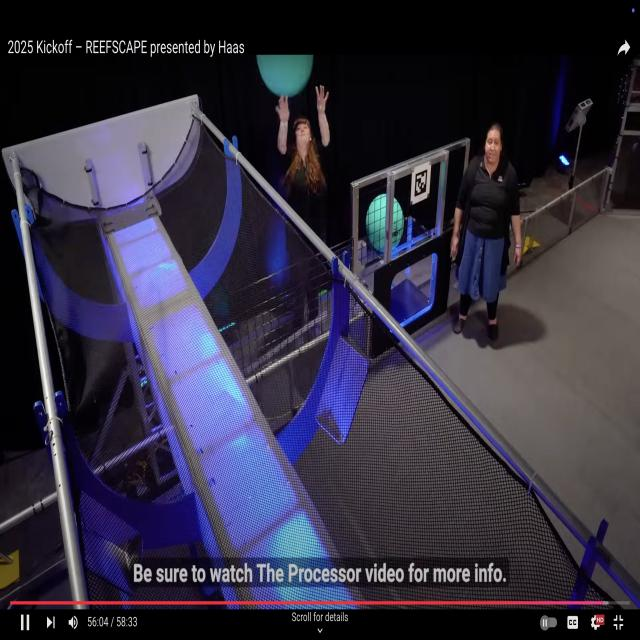algae: (255, 50, 318, 101), (364, 192, 406, 254)
